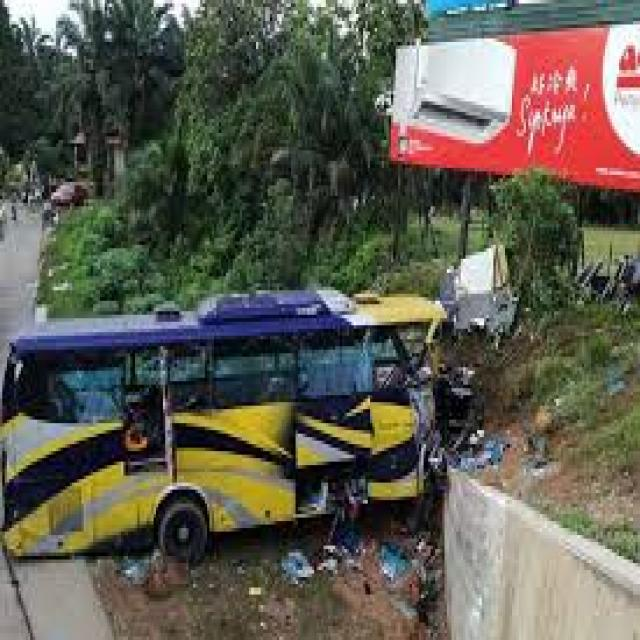accident: (1, 221, 483, 584)
